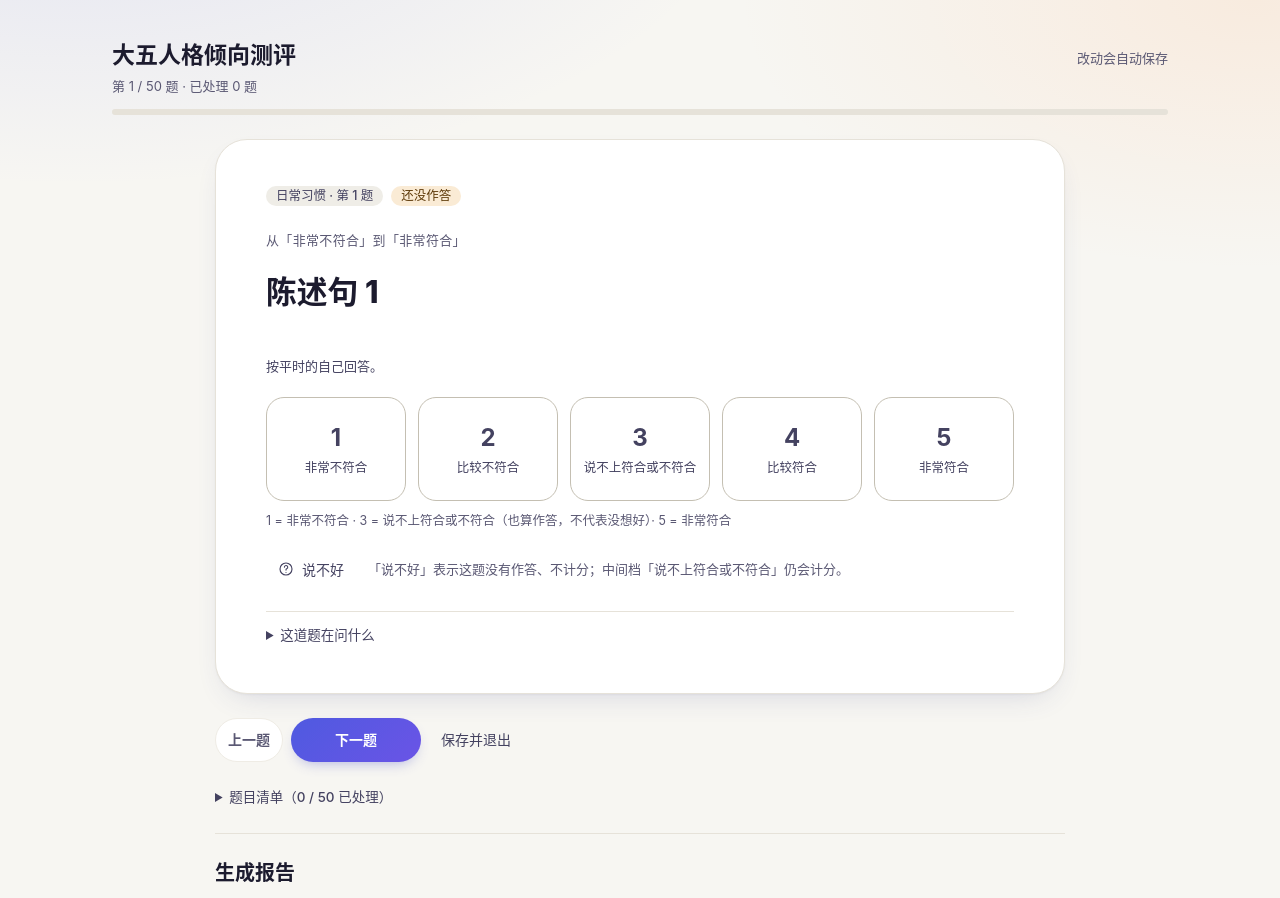
Test: 大五答题页 › 选了一档之后立刻显示「有 1 题还没保存」，保存成功后才变「已保存」
Click the radio button labelled "4 比较符合". click: click(792, 449)
box: top-left (722, 397), bottom-right (862, 501)
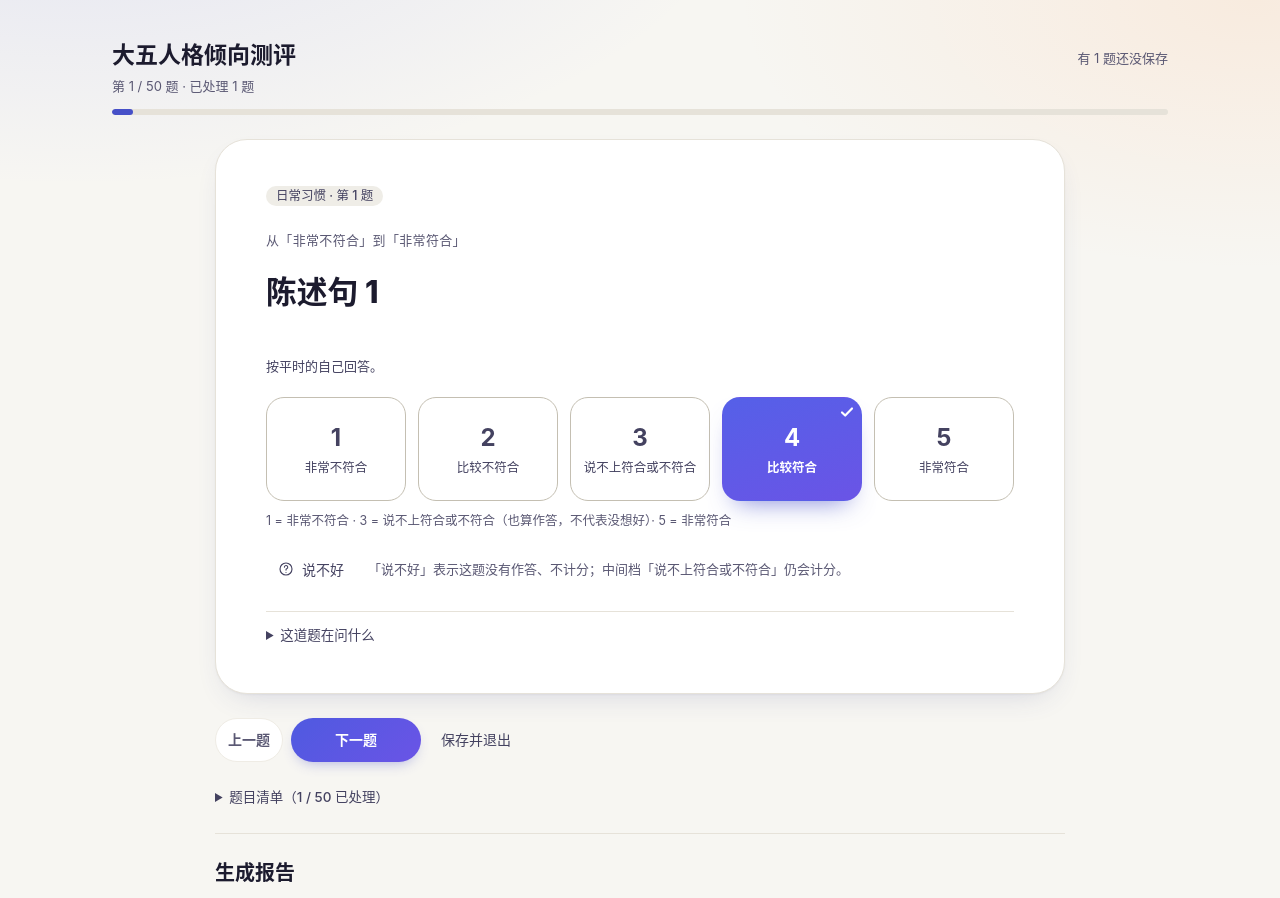
Expected: the text "有 1 题还没保存" is shown, top-left (1077, 48), bottom-right (1168, 69)
Click the button "下一题". click: click(356, 740)
box: top-left (291, 718), bottom-right (421, 762)
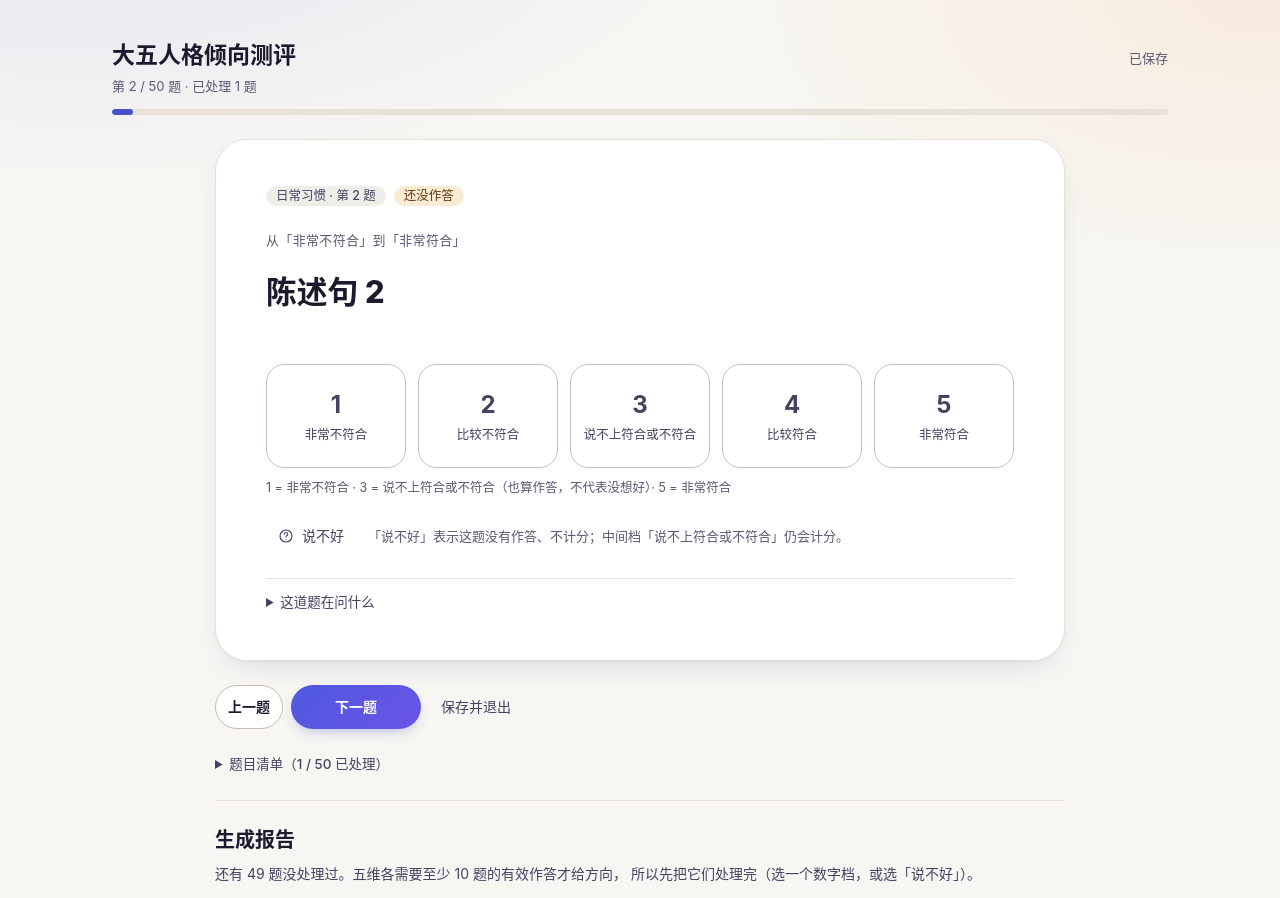
Expected: the text "已保存" is shown, top-left (1129, 48), bottom-right (1168, 69)
